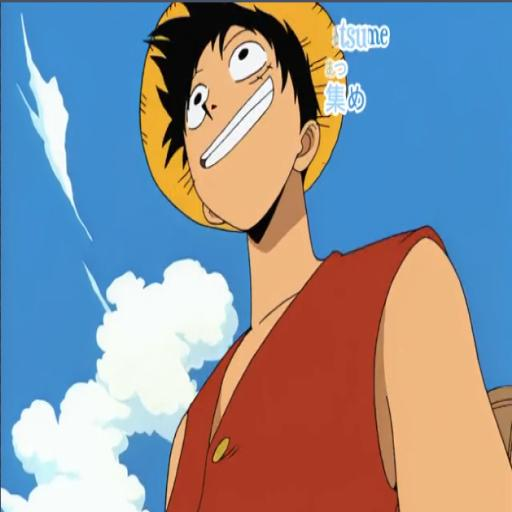Luffy: (145, 0, 512, 512)
